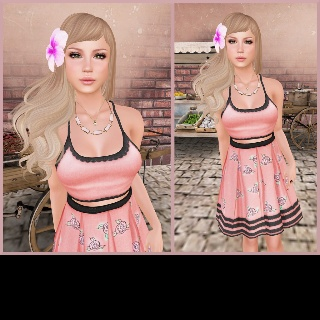without_mask: (65, 41, 109, 93), (226, 32, 256, 67)
